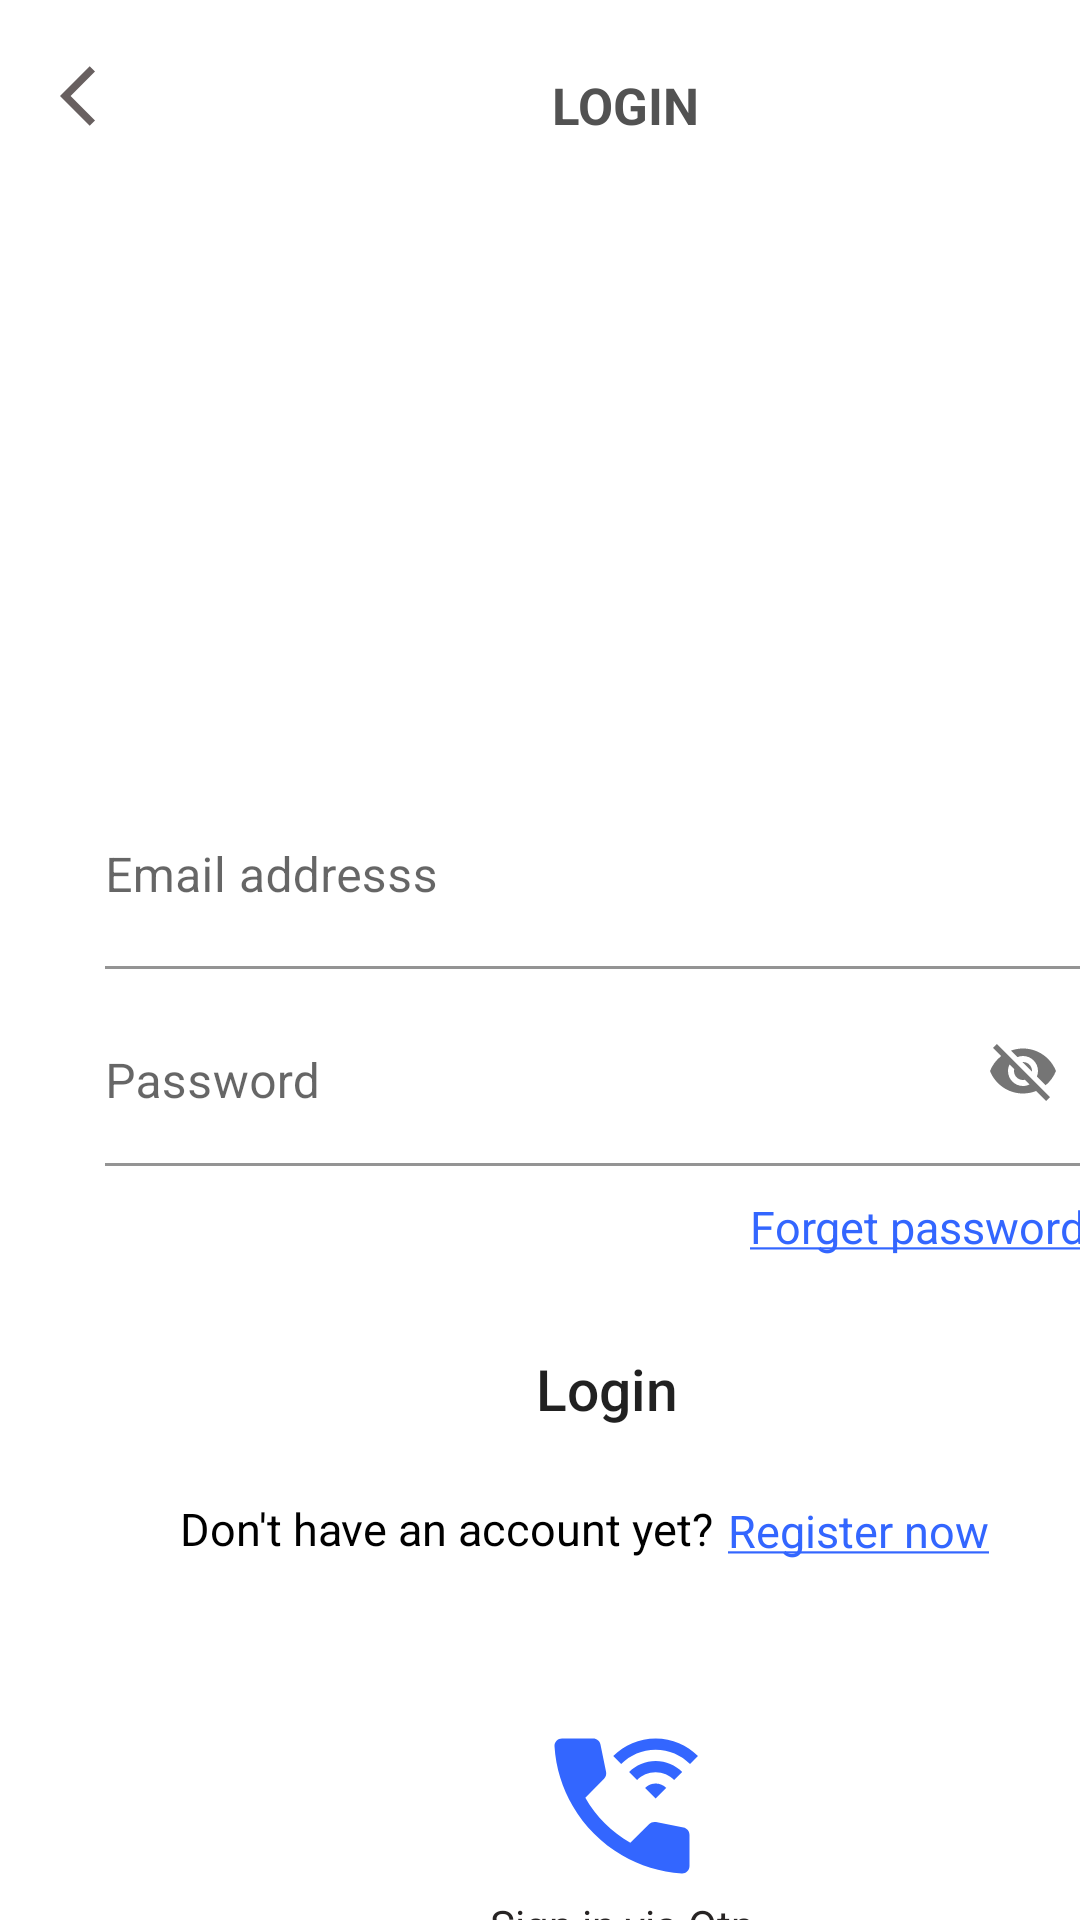

Icon bounding boxes for this 1080w x 1920h phone screenshot, format (x1, y1, x2, y2):
arrow back: (60, 66, 95, 126)
wifi calling: (554, 1738, 698, 1874)
